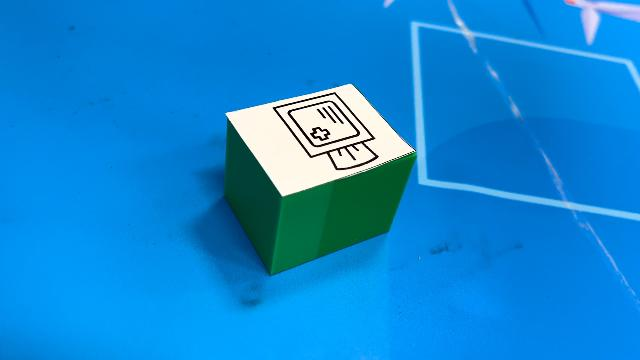napkin: (225, 82, 419, 278)
